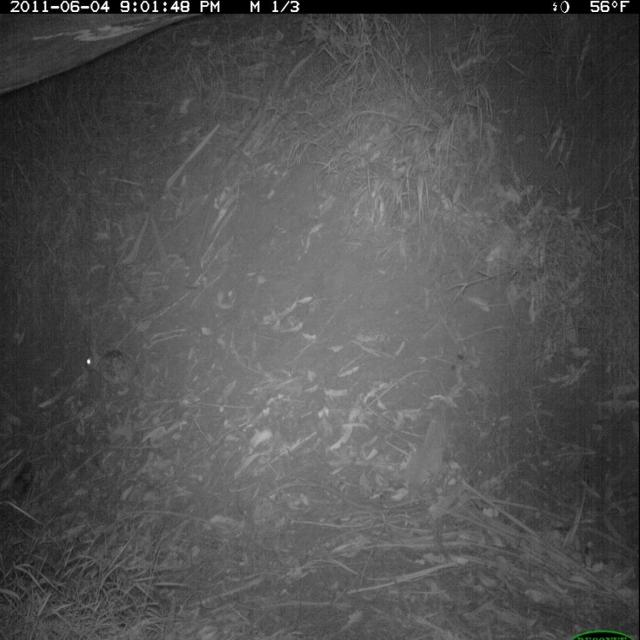rabbit: (79, 340, 141, 398)
